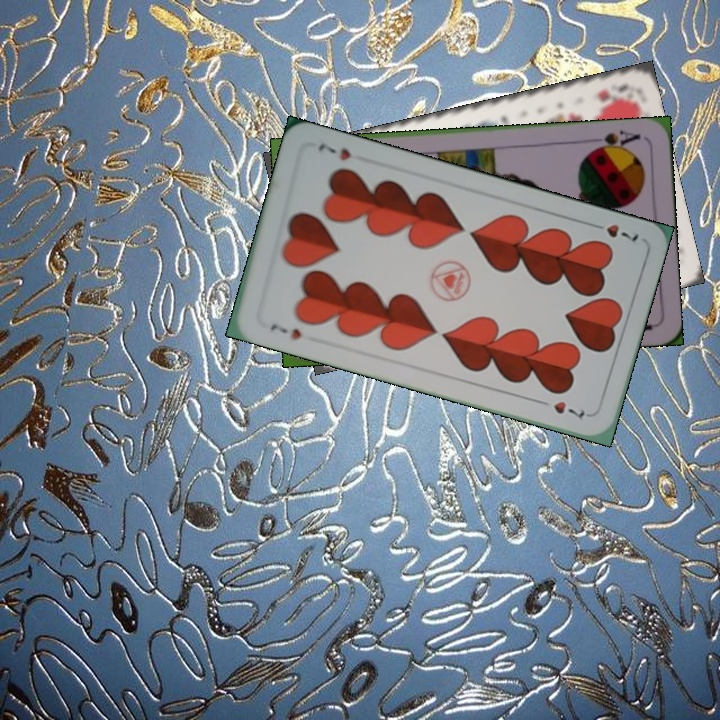H7: (585, 219, 642, 245), (266, 320, 304, 342)
HK: (592, 80, 633, 106)
SA: (586, 126, 643, 155)
